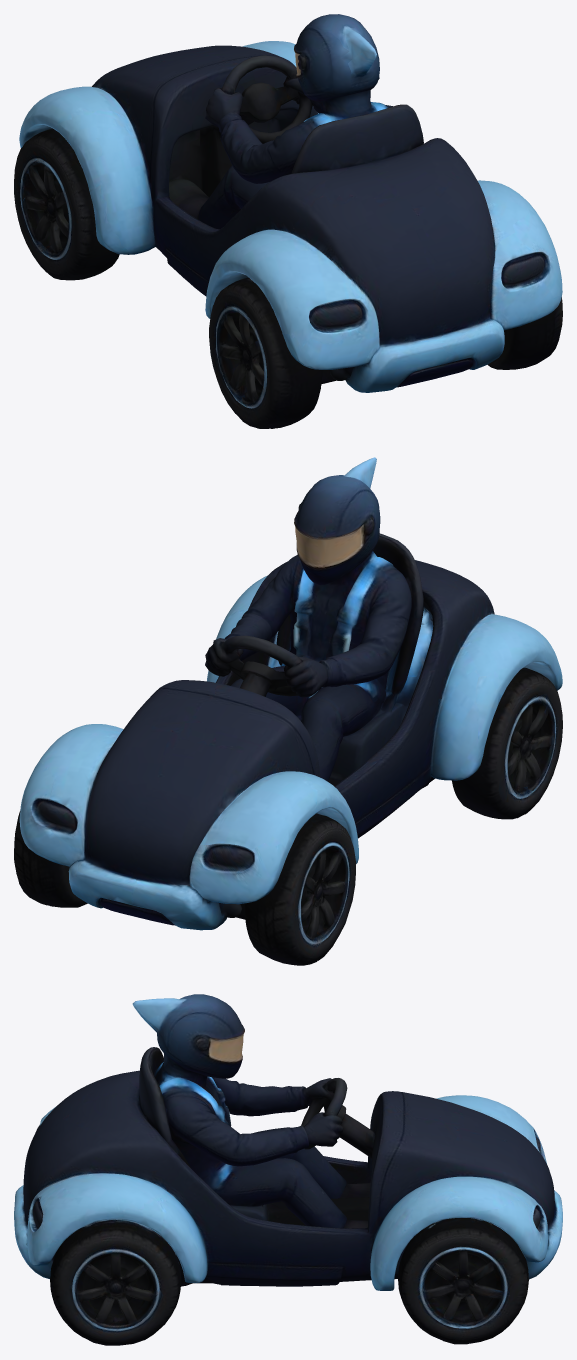
Rendered from civic-dark.glb.
The picture shows the model from 3 angles, top to bottom: view 1: azimuth 30°, elevation 25°; view 2: azimuth 150°, elevation 25°; view 3: azimuth 270°, elevation 25°; orthographic projection. The views are drawn at different scales.
Visible parts, largest first — view 1: chassis; view 2: chassis; view 3: chassis.
Part boxes in pixels (bbox=[...]): chassis: bbox=[14, 14, 562, 428]; chassis: bbox=[14, 457, 562, 965]; chassis: bbox=[14, 994, 562, 1345].
Size of the model in its own units: 2.38 by 2.63 by 4.5.
1 material, 1 textured.
